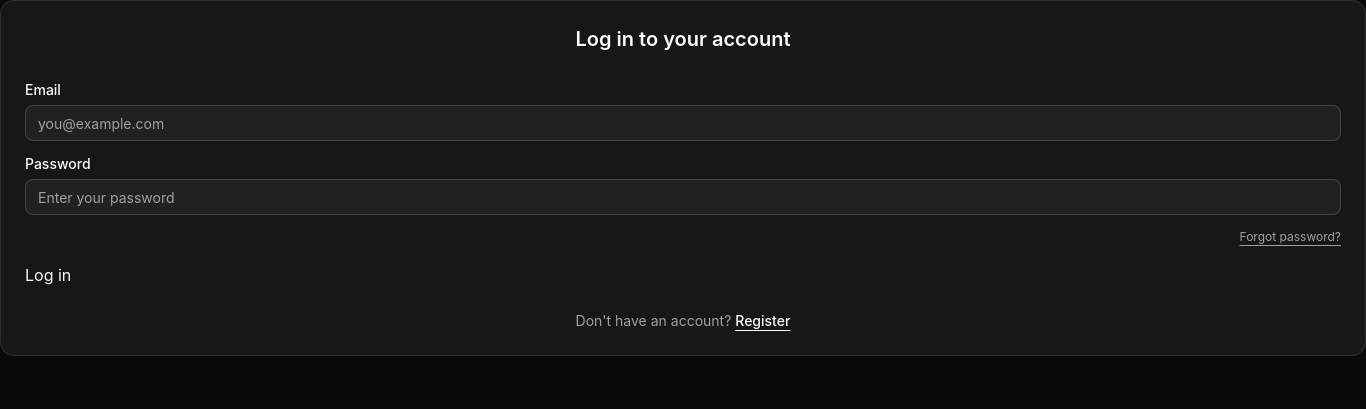
Scenario: LoginView › form submission › shows error message on failed login
Type "bad@example.com" into the field labelled "Email" at (683, 123), box left=25, top=105, right=1341, bottom=141
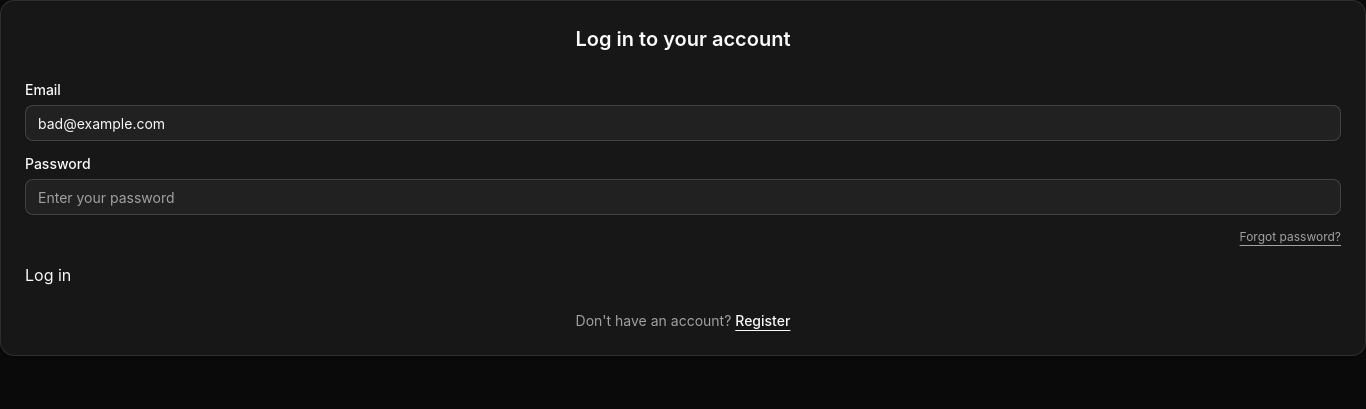
Type "wrong" into the password field labelled "Password" at (683, 197), box left=25, top=179, right=1341, bottom=215
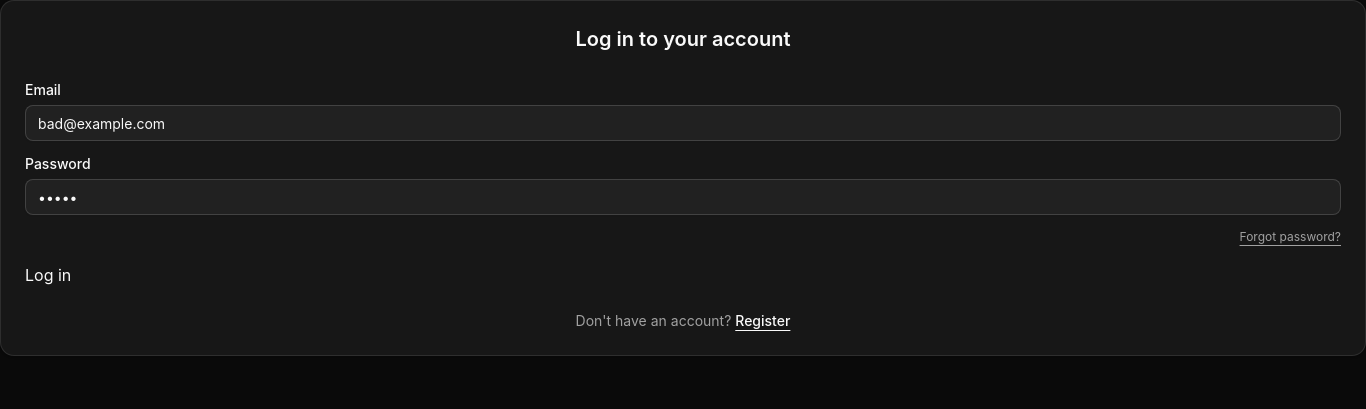
Submit the form, box left=25, top=83, right=1341, bottom=287
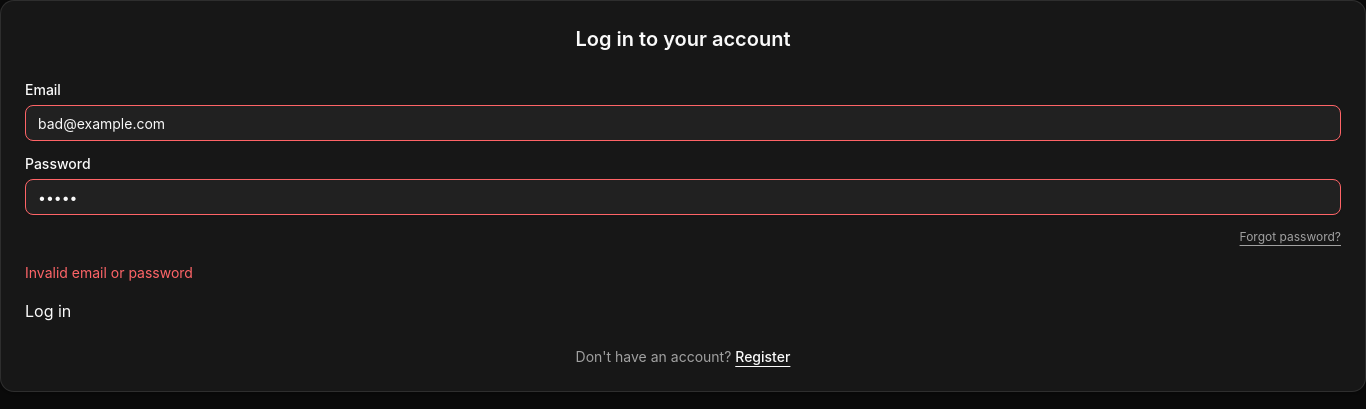
expect the text "Invalid email or password" is shown: met, box left=25, top=264, right=193, bottom=281
